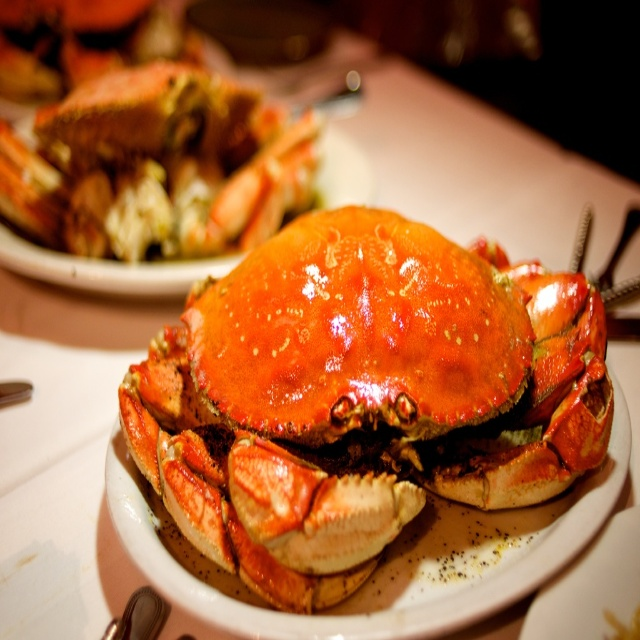Crab: (119, 202, 617, 619)
